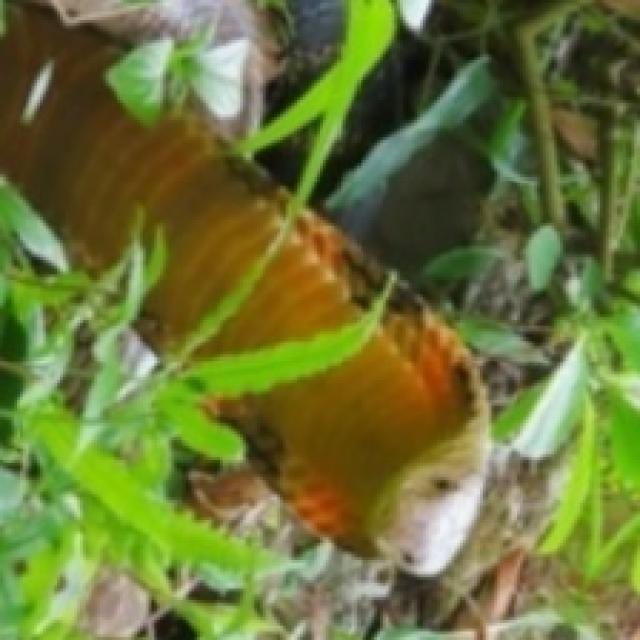king cobra: (0, 3, 380, 360), (217, 303, 486, 574)
